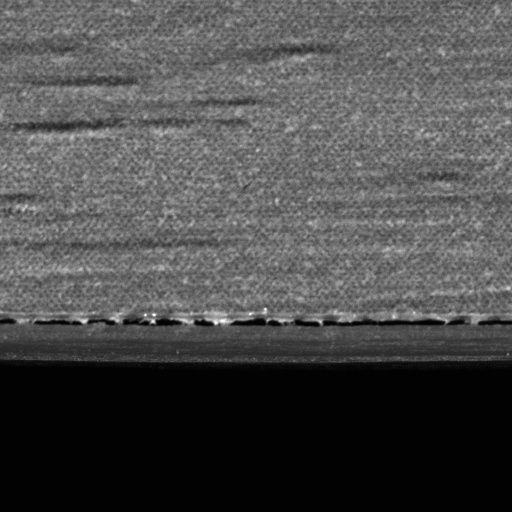kaijiao: (0, 307, 511, 367)
